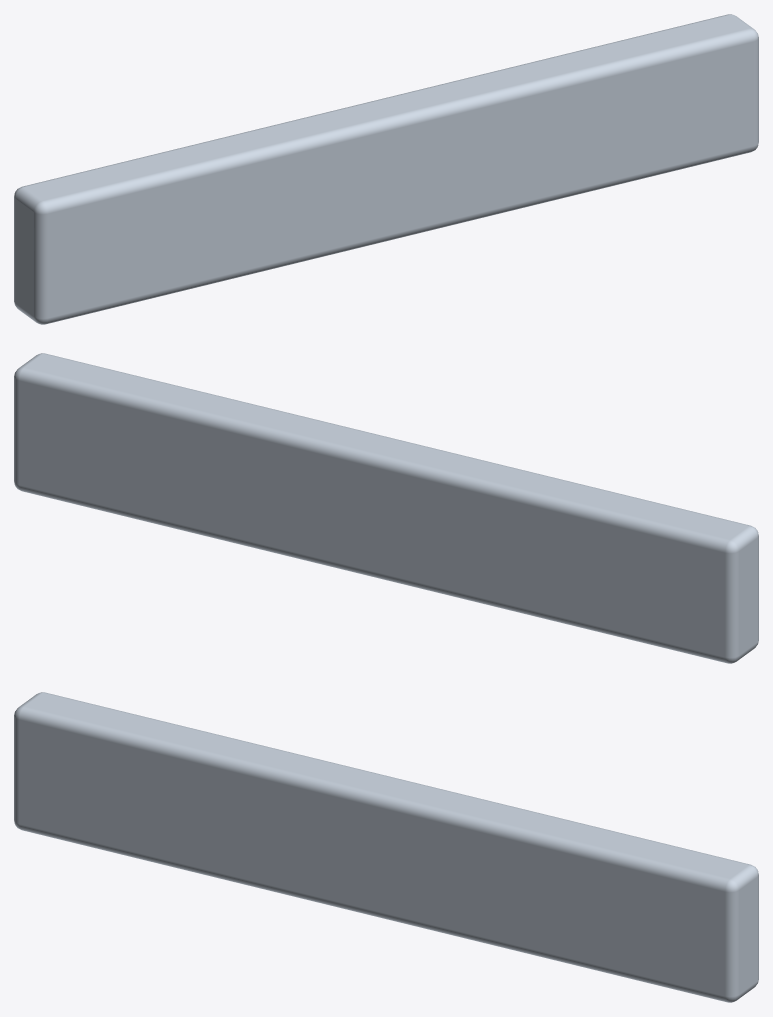
File: ruler.obj
3 views of the same model, one above another, from view 1: azimuth 30°, elevation 25°; view 2: azimuth 150°, elevation 25°; view 3: azimuth 330°, elevation 25° (orthographic).
Parts seen in each view (by area): view 1: ruler_0_0; view 2: ruler_0_0; view 3: ruler_0_0.
Part boxes in pixels (x1,y1,x2,y2): ruler_0_0: (14, 14, 758, 324); ruler_0_0: (14, 353, 758, 663); ruler_0_0: (14, 692, 758, 1002).
Size of the model in its own units: 0.16 by 0.026 by 0.011.
